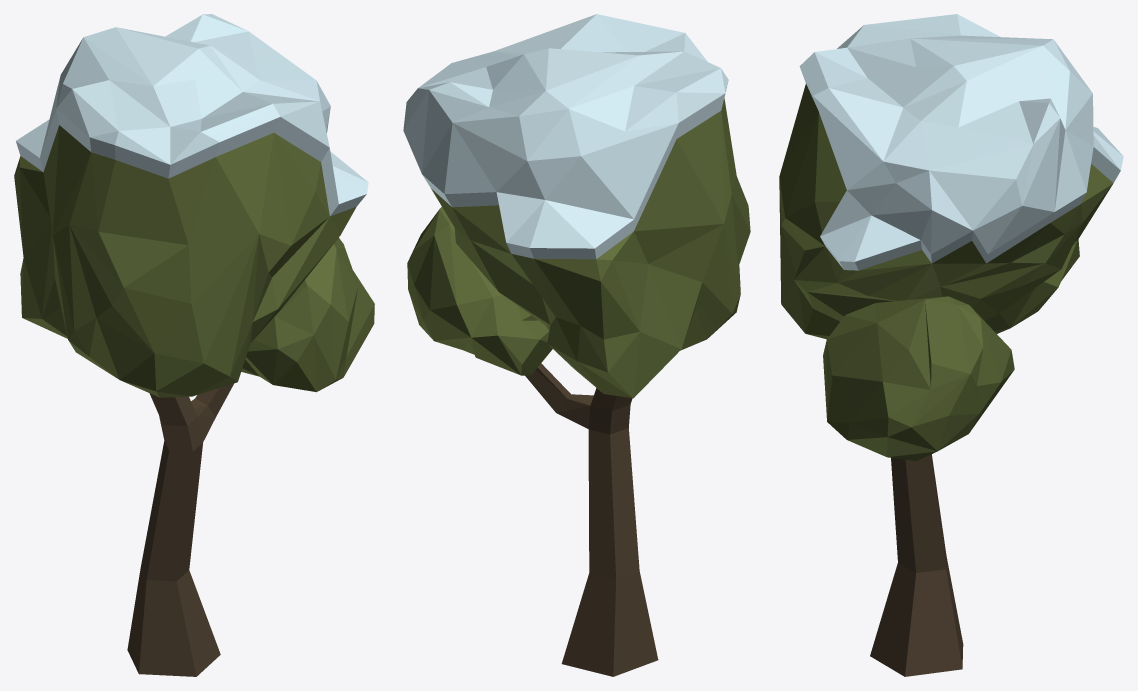
Rendered from SM_Env_Tree_07_Snow.gltf.
The picture shows the model from 3 angles, left to right: view 1: azimuth 30°, elevation 25°; view 2: azimuth 150°, elevation 25°; view 3: azimuth 270°, elevation 25°; orthographic projection. The views are drawn at different scales.
Parts seen in each view (by area): view 1: SM_Env_Tree_07_Snow; view 2: SM_Env_Tree_07_Snow; view 3: SM_Env_Tree_07_Snow.
Part boxes in pixels (x1,y1,x2,y2): SM_Env_Tree_07_Snow: (14, 14, 374, 676); SM_Env_Tree_07_Snow: (403, 14, 750, 676); SM_Env_Tree_07_Snow: (779, 14, 1123, 676).
Bounding box in the file's own units: 2.99 × 5.46 × 2.78.
1 material, 1 textured.
